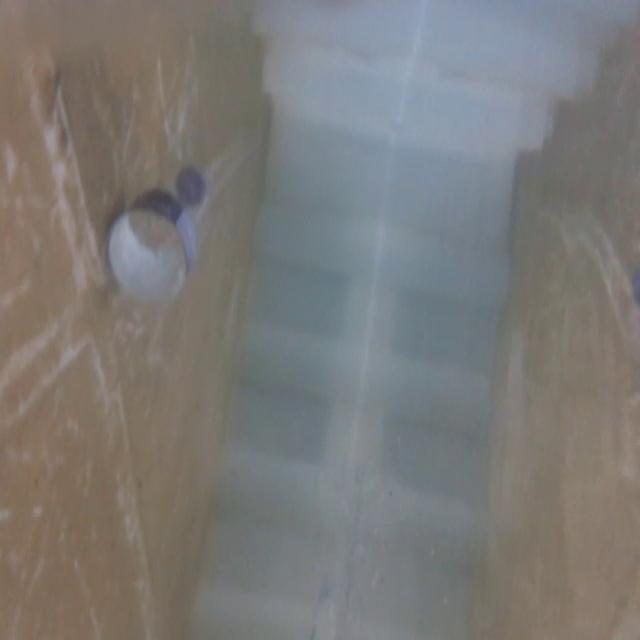plastic bottle: (94, 158, 227, 345)
